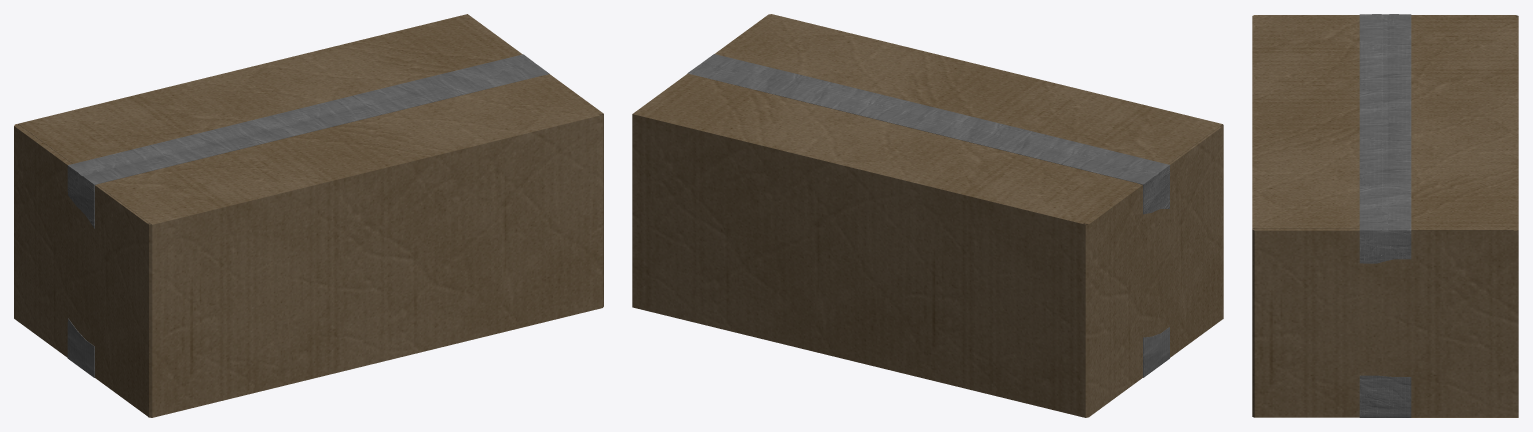
3 views of the same model, side by side, from view 1: azimuth 30°, elevation 25°; view 2: azimuth 150°, elevation 25°; view 3: azimuth 270°, elevation 25° (orthographic). The views are drawn at different scales.
Visible parts, largest first — view 1: Cardboard Box SQ01.001; view 2: Cardboard Box SQ01.001; view 3: Cardboard Box SQ01.001.
Boxes of the visible parts, <box> form: Cardboard Box SQ01.001: <box>14,14,603,417</box>; Cardboard Box SQ01.001: <box>632,14,1223,417</box>; Cardboard Box SQ01.001: <box>1252,14,1518,417</box>.
Bounding box in the file's own units: 75.34 × 30.73 × 39.25.
